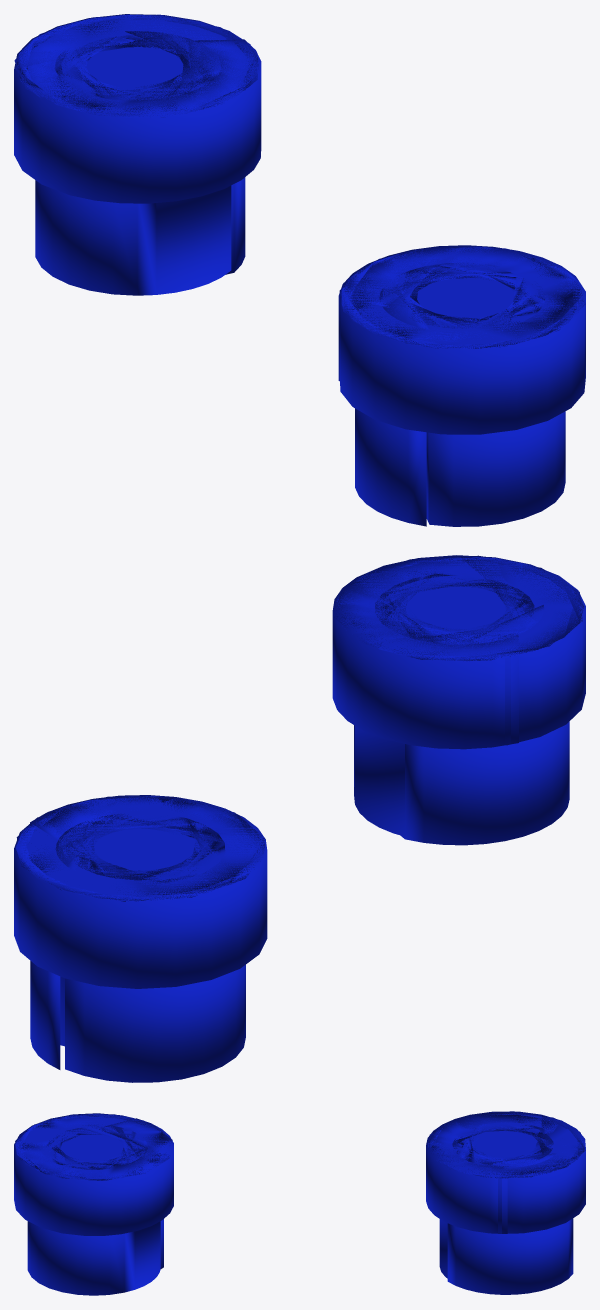
The model's file is tuyeau_element_000003.obj.
The picture shows the model from 3 angles, top to bottom: view 1: azimuth 30°, elevation 25°; view 2: azimuth 150°, elevation 25°; view 3: azimuth 270°, elevation 25°; orthographic projection. The views are drawn at different scales.
Visible parts, largest first — view 1: tuyeau2_Cube.017, tuyeau1_Cube.014; view 2: tuyeau2_Cube.017, tuyeau1_Cube.014; view 3: tuyeau1_Cube.014, tuyeau2_Cube.017.
Boxes of the visible parts, left/top/right/bottom form: tuyeau2_Cube.017: left=338, top=245, right=585, bottom=526; tuyeau1_Cube.014: left=14, top=14, right=261, bottom=295; tuyeau2_Cube.017: left=332, top=555, right=585, bottom=845; tuyeau1_Cube.014: left=14, top=795, right=267, bottom=1082; tuyeau1_Cube.014: left=426, top=1111, right=585, bottom=1294; tuyeau2_Cube.017: left=14, top=1113, right=173, bottom=1295.
Bounding box in the file's own units: 3623 × 2917 × 12563.
